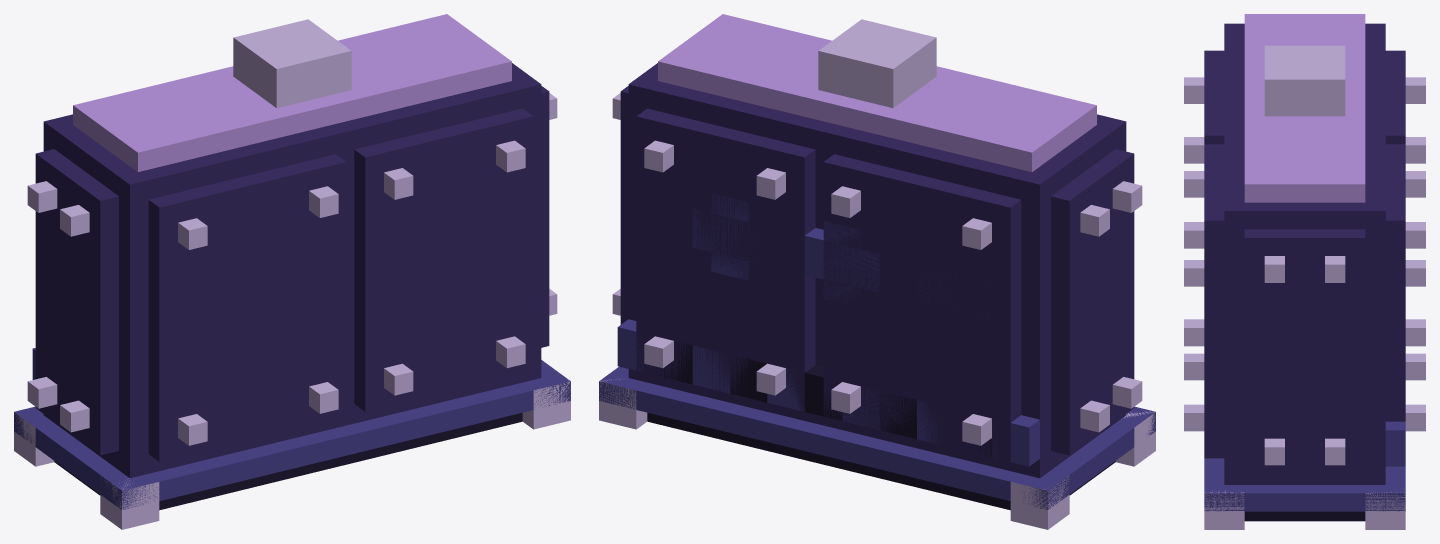
File: magazine.ballistic.md.glb
3 renders of one model, left to right at view 1: azimuth 30°, elevation 25°; view 2: azimuth 150°, elevation 25°; view 3: azimuth 270°, elevation 25°, orthographic. The views are drawn at different scales.
Parts seen in each view (by area): view 1: magazine.ballistic.md; view 2: magazine.ballistic.md; view 3: magazine.ballistic.md.
Boxes of the visible parts, bbox=[...] form: magazine.ballistic.md: bbox=[14, 14, 570, 529]; magazine.ballistic.md: bbox=[599, 14, 1155, 529]; magazine.ballistic.md: bbox=[1184, 14, 1425, 529].
Bounding box in the file's own units: 1.62 × 1.25 × 0.75.
